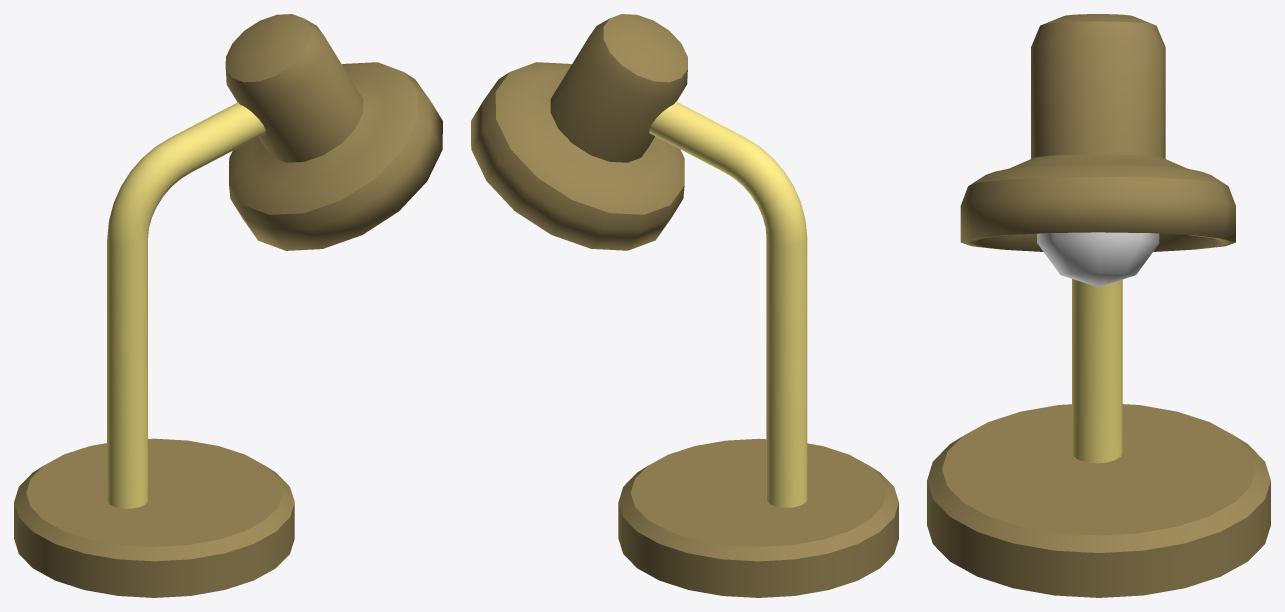
The model's file is table_lamp.glb.
3 renders of one model, left to right at view 1: azimuth 30°, elevation 25°; view 2: azimuth 150°, elevation 25°; view 3: azimuth 270°, elevation 25°, orthographic. The views are drawn at different scales.
Visible parts, largest first — view 1: TableLamp; view 2: TableLamp; view 3: TableLamp.
Boxes of the visible parts, <box> form: TableLamp: <box>14,14,442,597</box>; TableLamp: <box>471,14,898,597</box>; TableLamp: <box>927,14,1270,597</box>.
Bounding box in the file's own units: 0.1864 × 0.2185 × 0.1148.
